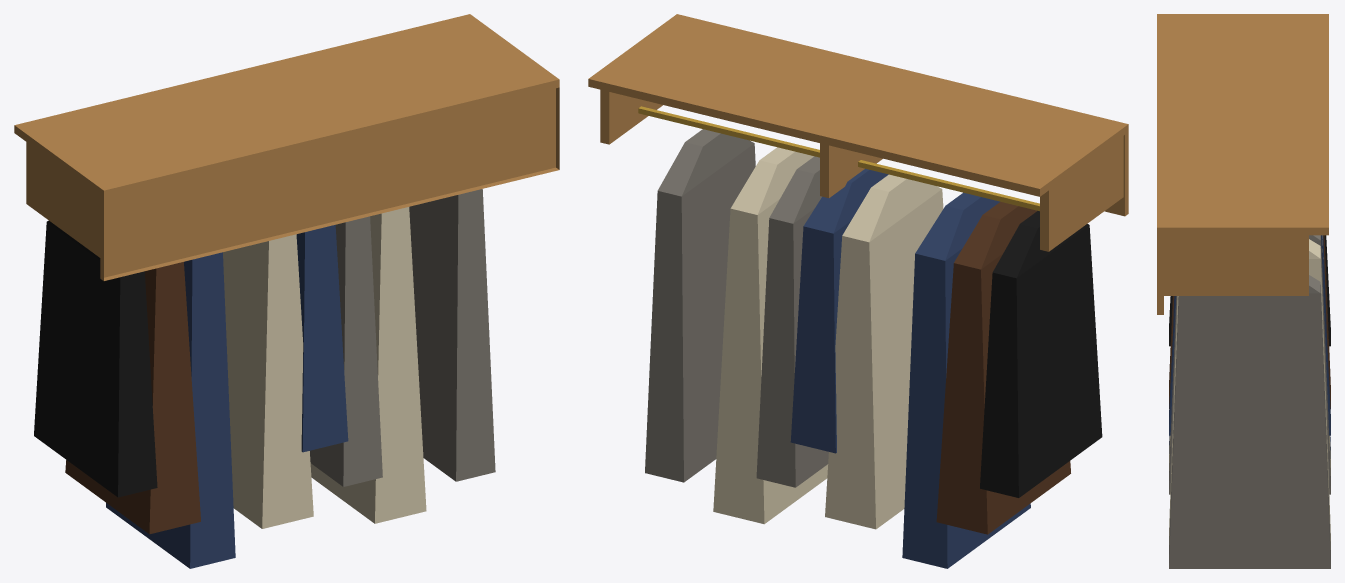
The model's file is parametric-coat_rack-crew.glb.
3 views of the same model, side by side, from view 1: azimuth 30°, elevation 25°; view 2: azimuth 150°, elevation 25°; view 3: azimuth 270°, elevation 25° (orthographic). The views are drawn at different scales.
Parts seen in each view (by area): view 1: parametric-coat_rack-crew; view 2: parametric-coat_rack-crew; view 3: parametric-coat_rack-crew.
Part boxes in pixels (x1,y1,x2,y2): parametric-coat_rack-crew: [14, 14, 559, 568]; parametric-coat_rack-crew: [588, 14, 1128, 568]; parametric-coat_rack-crew: [1157, 14, 1330, 568].
Bounding box in the file's own units: 1.5 × 1.27 × 0.515.
